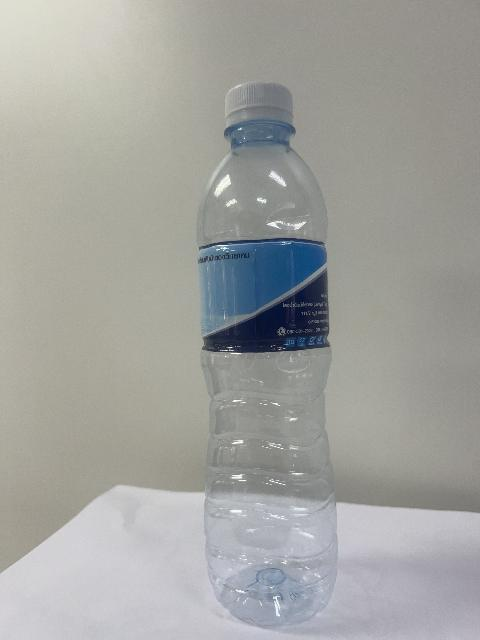bottle: (198, 82, 337, 626)
